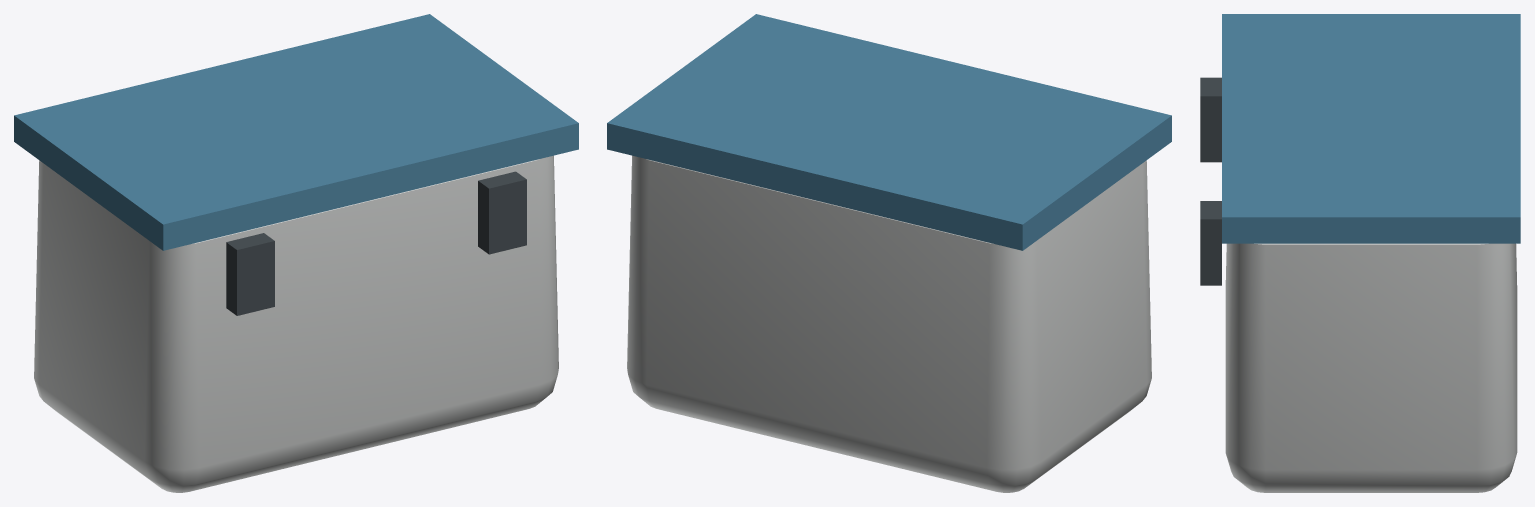
The model's file is powerboat-racing-and-launch-ramp-cooler-box-3af2f848__22308.glb.
The picture shows the model from 3 angles, left to right: view 1: azimuth 30°, elevation 25°; view 2: azimuth 150°, elevation 25°; view 3: azimuth 270°, elevation 25°; orthographic projection.
Visible parts, largest first — view 1: cooler-box; view 2: cooler-box; view 3: cooler-box.
Boxes of the visible parts, x1,y1,x2,y2 form: cooler-box: (14,14,578,492); cooler-box: (607,14,1171,492); cooler-box: (1200,14,1520,492).
Bounding box in the file's own units: 0.66 × 0.44 × 0.44.
